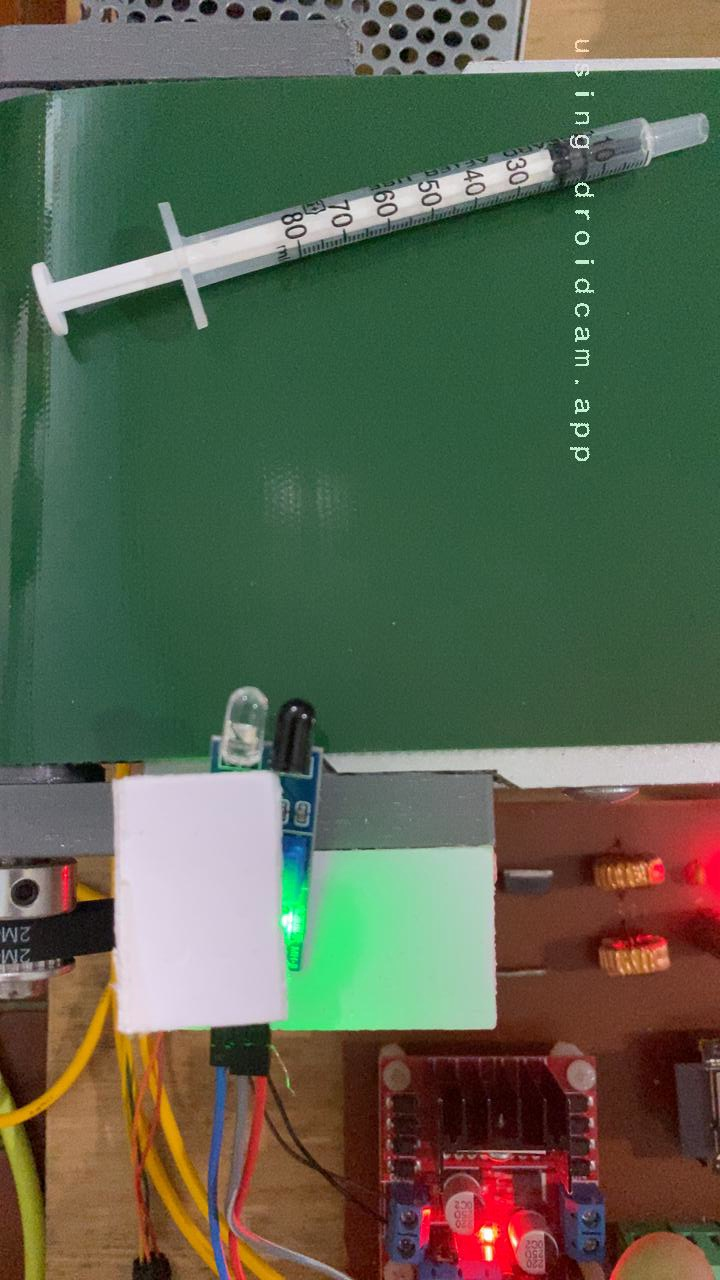syringe: (25, 106, 716, 345)
